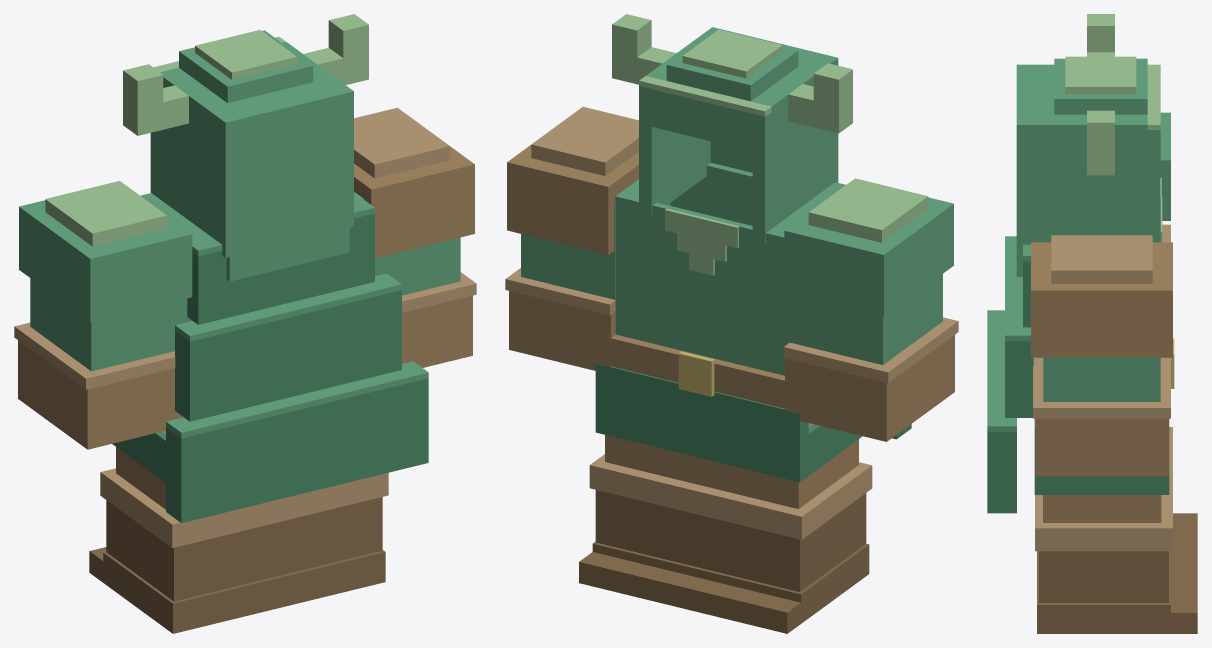
File: ranger_pieces.glb
3 renders of one model, left to right at view 1: azimuth 30°, elevation 25°; view 2: azimuth 150°, elevation 25°; view 3: azimuth 270°, elevation 25°, orthographic. The views are drawn at different scales.
Visible parts, largest first — view 1: Cloak, Hood, Tunic, LeftBoot, LeftBracer, LeftSleeve, RightBoot, LeftSole, RightSleeve, RightBracer, RightSole, Belt (+1 smaller); view 2: Tunic, Hood, Belt, LeftBoot, LeftBracer, LeftSleeve, RightBoot, RightBracer, LeftSole, RightSleeve, RightSole, LeftTrouser (+1 smaller); view 3: Hood, Tunic, RightBoot, RightBracer, RightSleeve, Cloak, RightSole, RightTrouser, Belt, LeftSole.
Part boxes in pixels (bbox=[...]): Cloak: bbox=[166, 199, 428, 522]; Hood: bbox=[123, 14, 368, 281]; Tunic: bbox=[19, 107, 474, 323]; LeftBoot: bbox=[100, 468, 280, 601]; LeftBracer: bbox=[14, 322, 183, 449]; LeftSleeve: bbox=[19, 241, 180, 371]; RightBoot: bbox=[278, 472, 388, 575]; LeftSole: bbox=[89, 547, 279, 633]; RightSleeve: bbox=[375, 200, 474, 295]; RightBracer: bbox=[402, 272, 476, 367]; RightSole: bbox=[278, 550, 385, 607]; Belt: bbox=[112, 431, 165, 482]; Tunic: bbox=[507, 106, 953, 409]; Hood: bbox=[612, 14, 852, 243]; Belt: bbox=[595, 363, 862, 482]; LeftBoot: bbox=[695, 462, 872, 591]; LeftBracer: bbox=[783, 317, 958, 441]; LeftSleeve: bbox=[795, 237, 953, 364]; RightBoot: bbox=[589, 454, 702, 567]; RightBracer: bbox=[505, 268, 615, 370]; LeftSole: bbox=[683, 543, 869, 633]; RightSleeve: bbox=[507, 198, 608, 298]; RightSole: bbox=[579, 541, 698, 608]; LeftTrouser: bbox=[702, 423, 858, 508]; Hood: bbox=[1016, 14, 1160, 276]; Tunic: bbox=[1031, 112, 1174, 421]; RightBoot: bbox=[1035, 477, 1172, 602]; RightBracer: bbox=[1033, 358, 1170, 476]; RightSleeve: bbox=[1031, 325, 1172, 401]; Cloak: bbox=[987, 236, 1033, 513]; RightSole: bbox=[1037, 555, 1197, 633]; RightTrouser: bbox=[1043, 495, 1161, 522]; Belt: bbox=[1034, 422, 1169, 494]; LeftSole: bbox=[1037, 513, 1197, 563].
Bounding box in the file's own units: 4.4 × 5.77 × 2.14.
